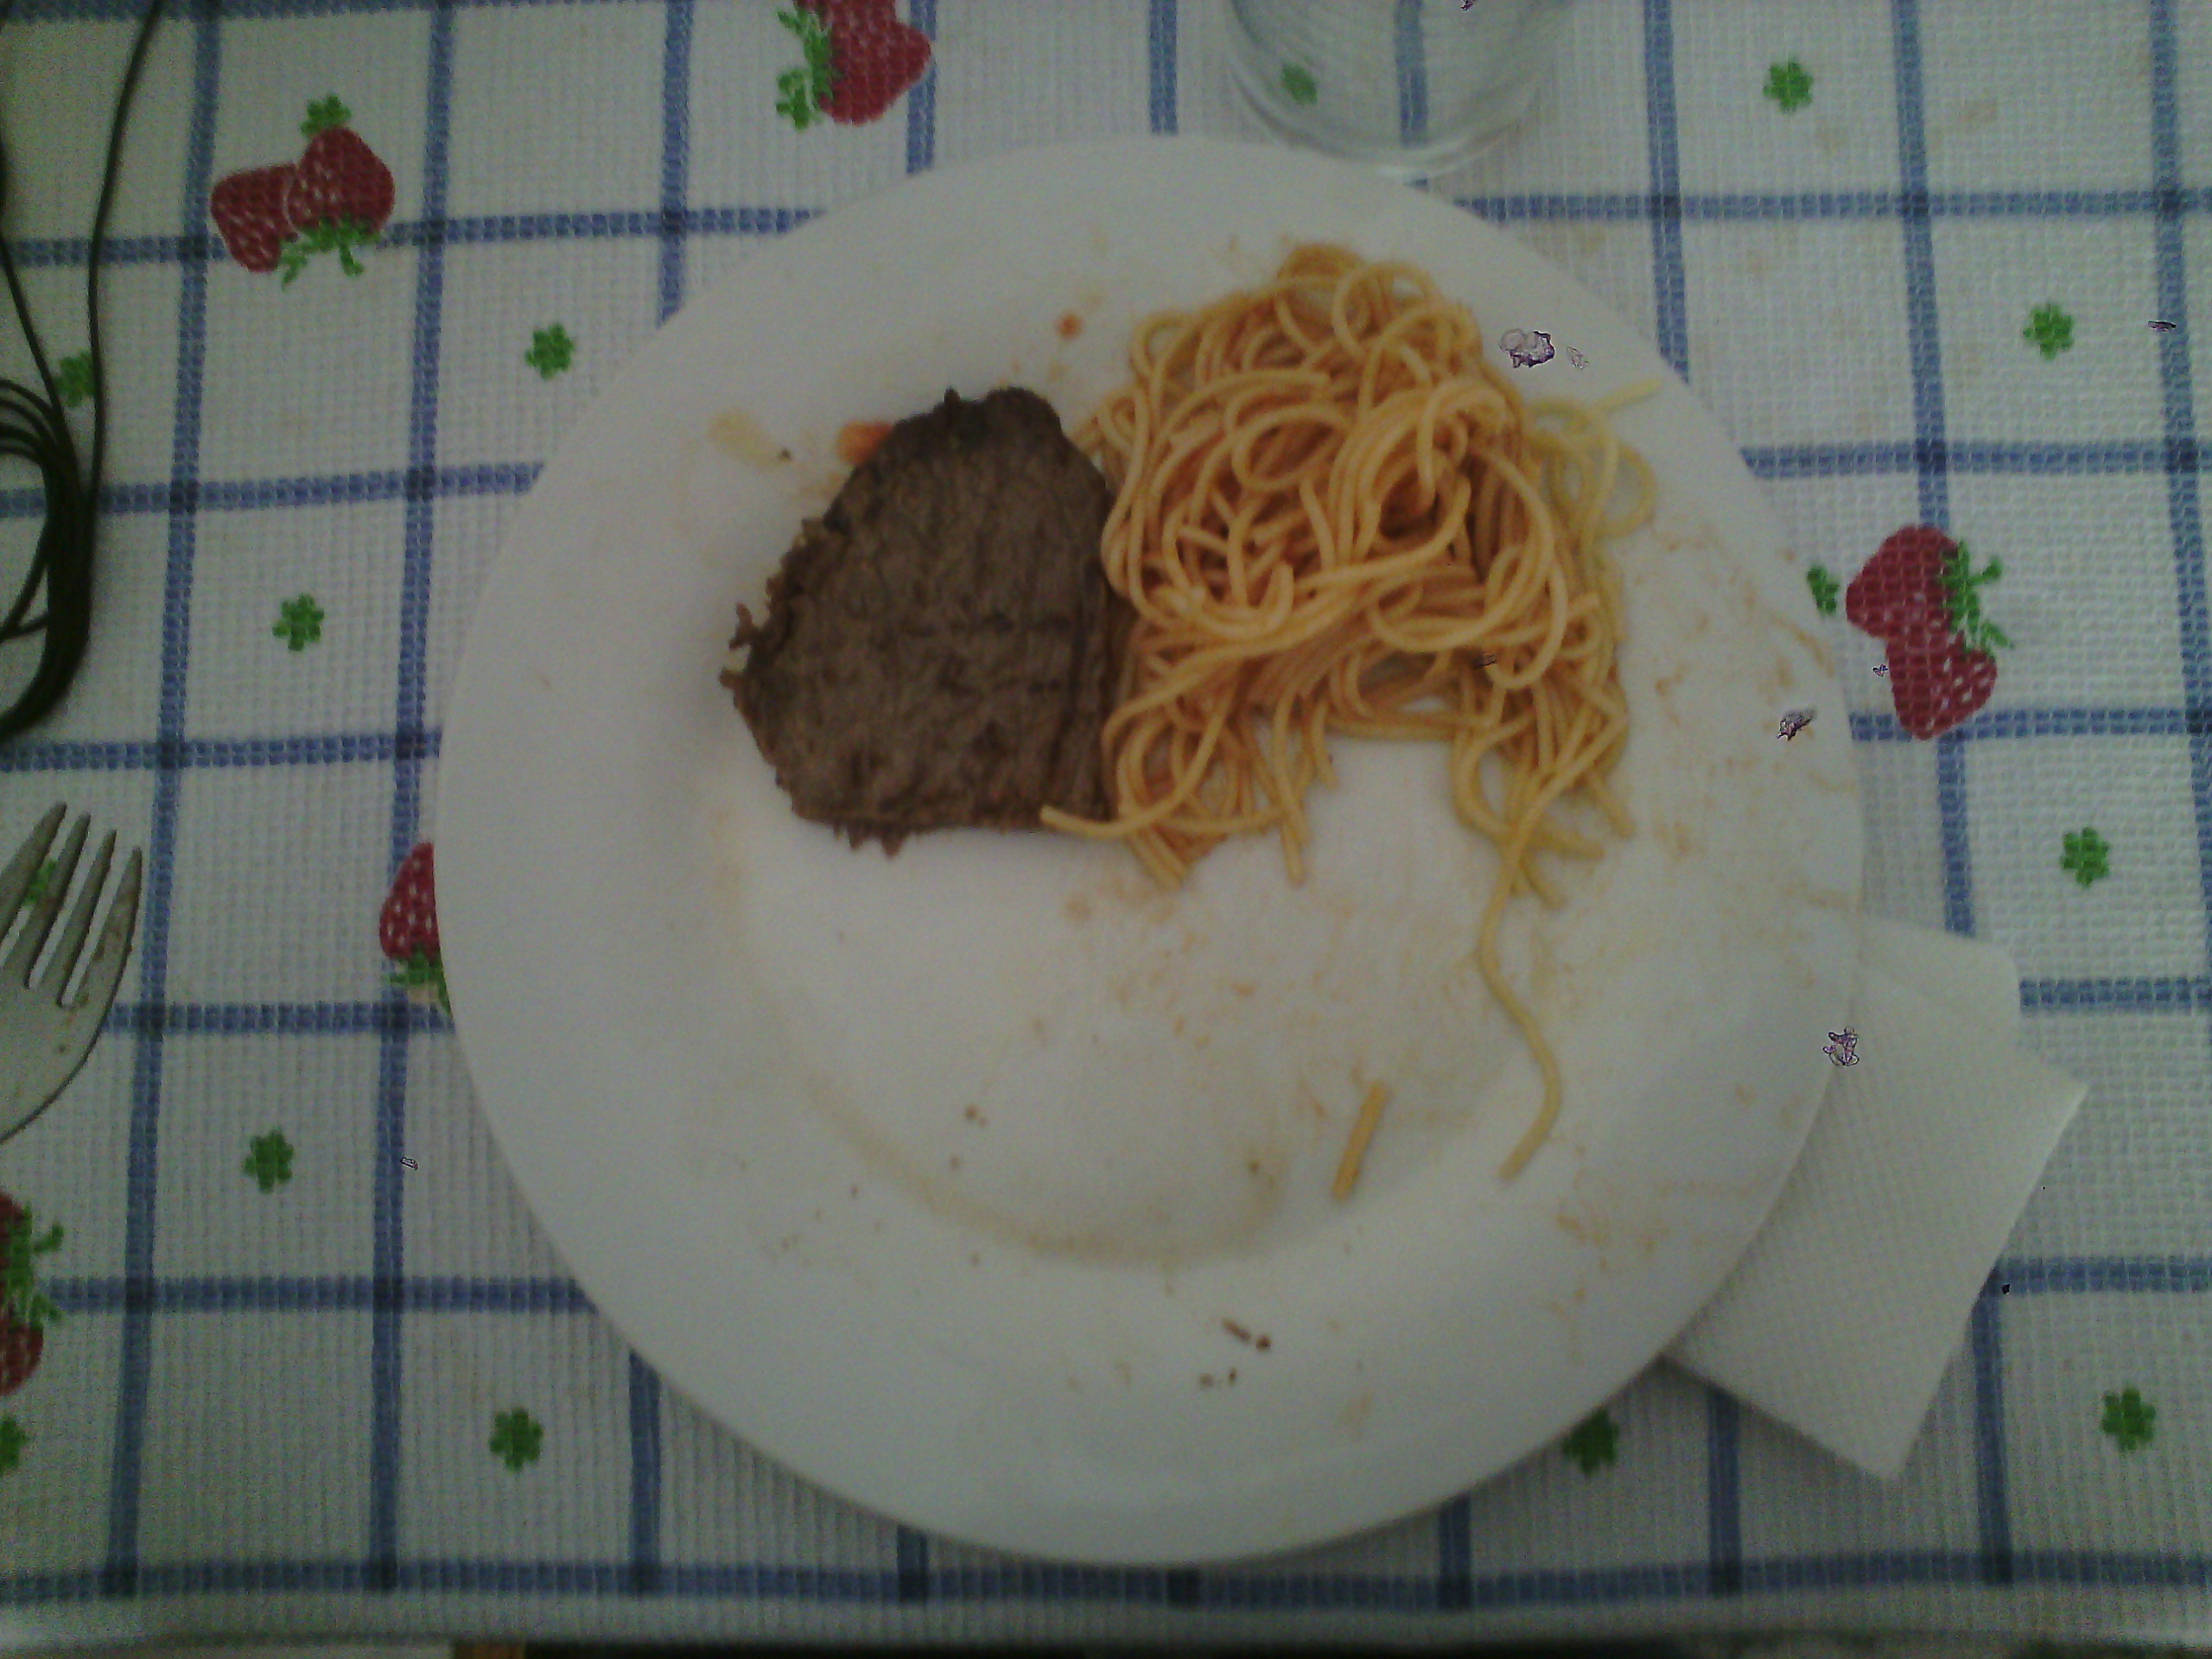41-60: (444, 139, 1865, 1572)
